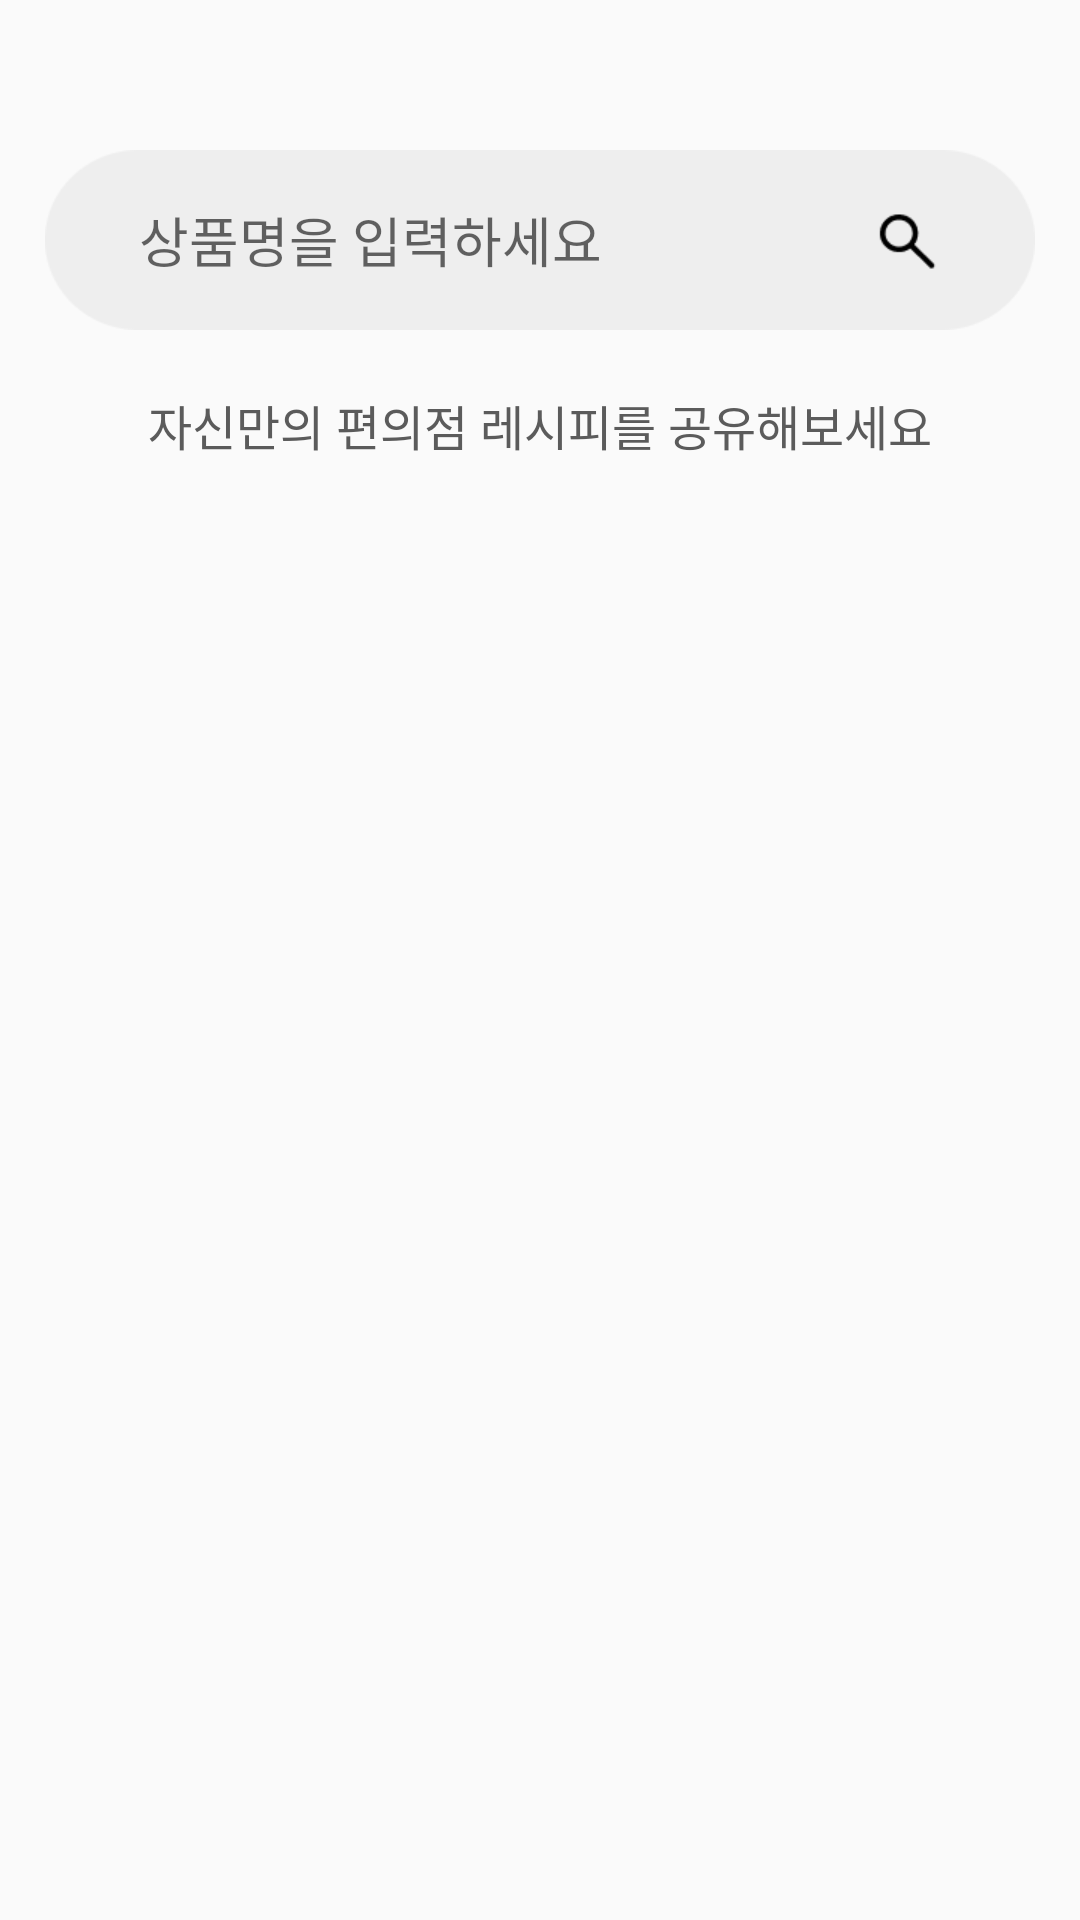

Where to tap for icons on this 1080 x 1920 app screen, as point (x, y):
recommendmenu add search: point (907, 241)
